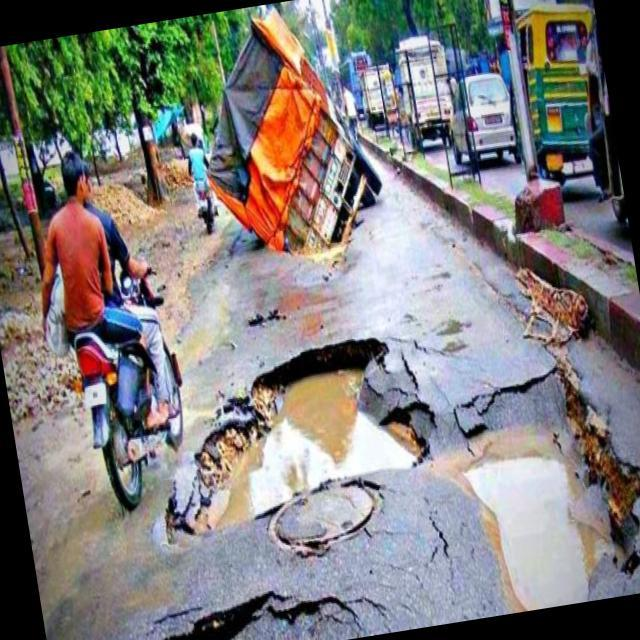Pothole: (166, 328, 436, 537), (454, 423, 611, 618), (106, 597, 271, 640)
